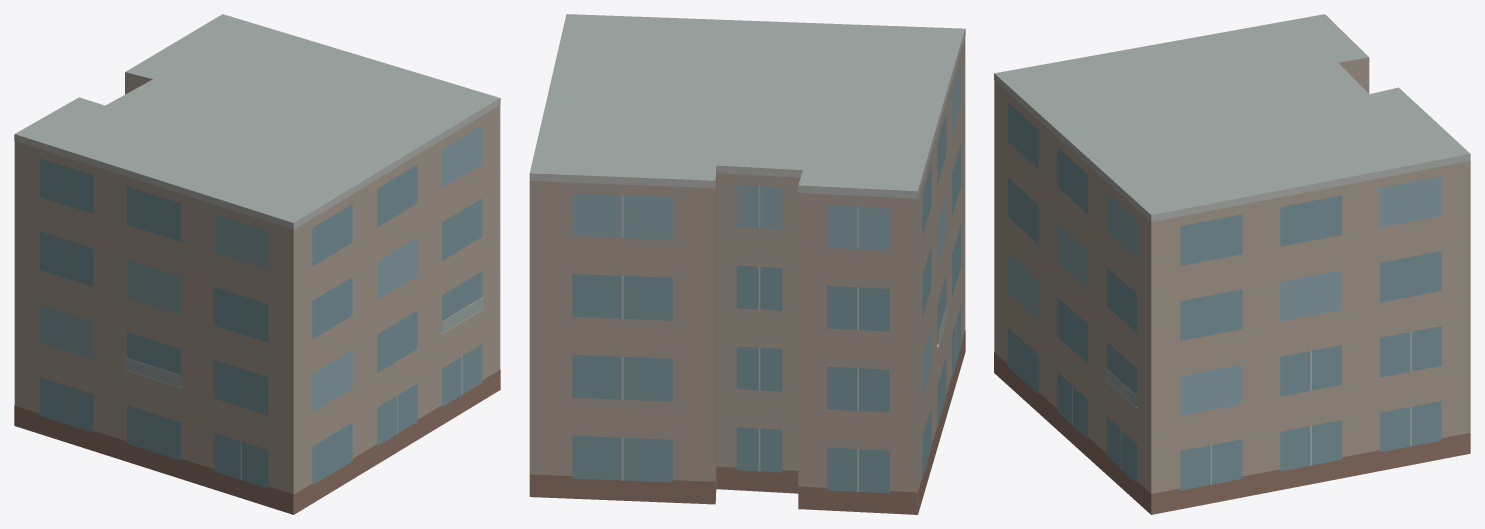
File: survey-upis-32731756.glb
The picture shows the model from 3 angles, left to right: view 1: azimuth 30°, elevation 25°; view 2: azimuth 150°, elevation 25°; view 3: azimuth 270°, elevation 25°; orthographic projection. The views are drawn at different scales.
Parts seen in each view (by area): view 1: survey-upis-32731756.tmp; view 2: survey-upis-32731756.tmp; view 3: survey-upis-32731756.tmp.
Boxes of the visible parts, x1=… form: survey-upis-32731756.tmp: x1=14, y1=14, x2=500, y2=514; survey-upis-32731756.tmp: x1=529, y1=14, x2=965, y2=514; survey-upis-32731756.tmp: x1=994, y1=14, x2=1470, y2=514.
Bounding box in the file's own units: 15.13 × 10.5 × 15.14.
